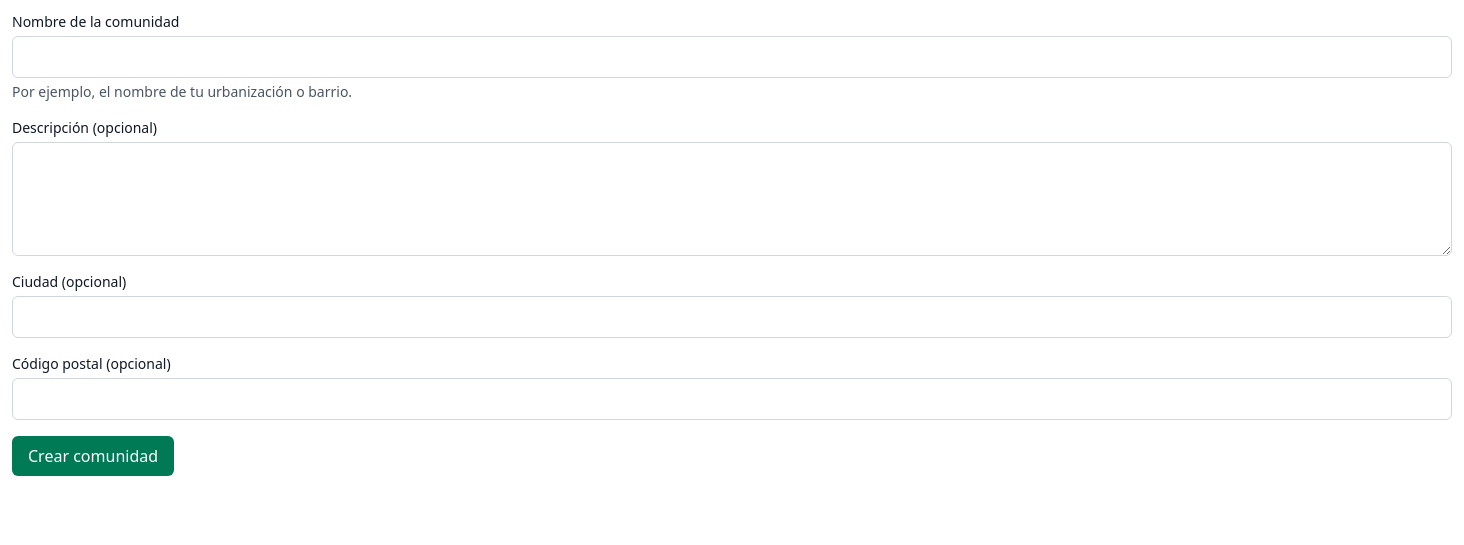
CommunityForm › muestra el error general
In the field labelled "Nombre de la comunidad": [732, 57] box top-left (12, 36), bottom-right (1452, 78), type "Los Olivos"
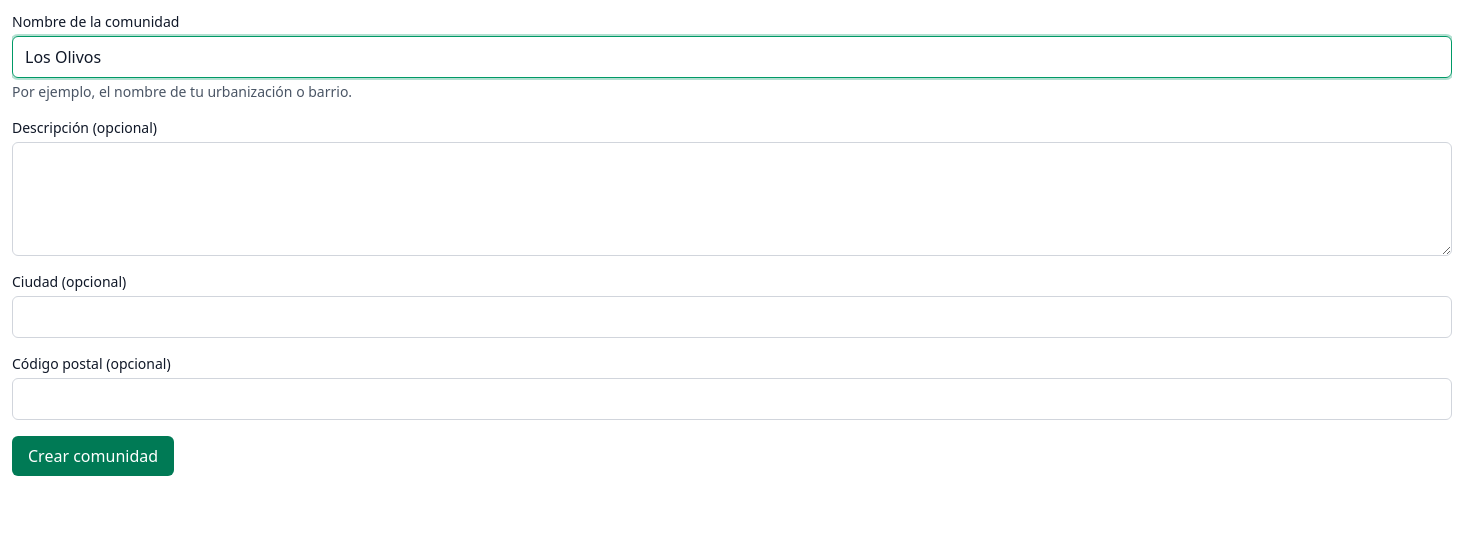
Click the button "Crear comunidad": [93, 456] box top-left (12, 436), bottom-right (174, 476)
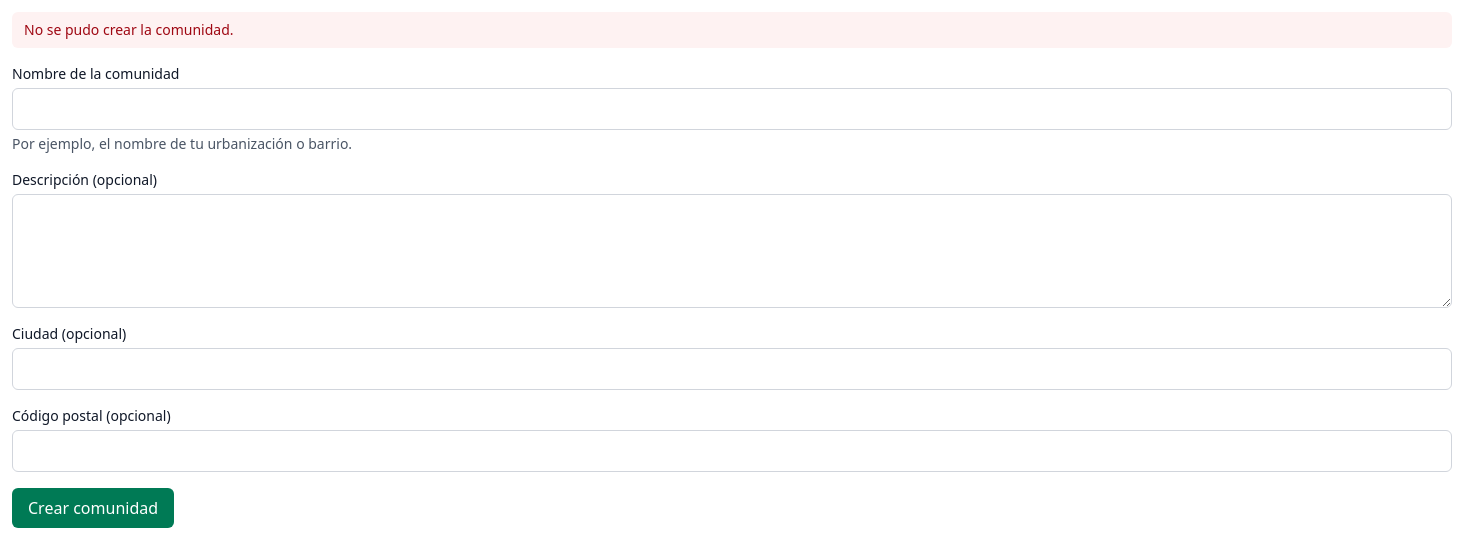
Result: the message reads "No se pudo crear la comunidad." at top-left (24, 20), bottom-right (234, 39)
